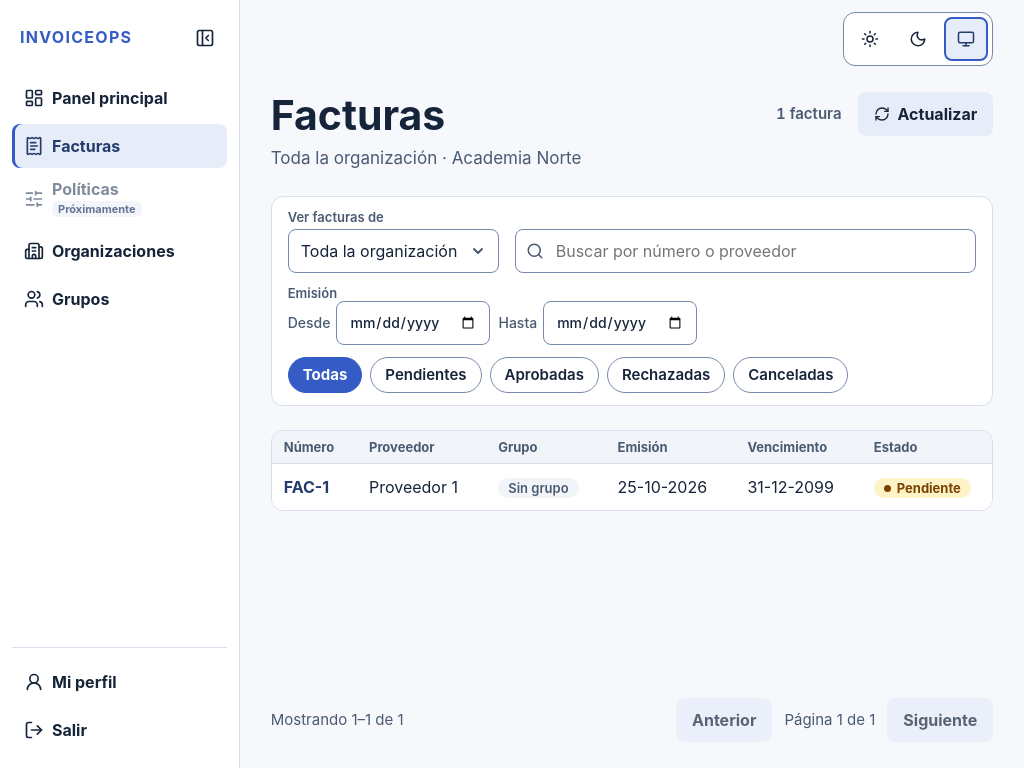
Test: APP12 S3 invoice presentation HTTP boundary › explains detail HTTP 404 as not found with the way back
Expected: the heading "Facturas" is shown, x1=271 y1=90 x2=445 y2=140
Click the link "FAC-1".
click(306, 487)  # box x1=284 y1=477 x2=329 y2=497
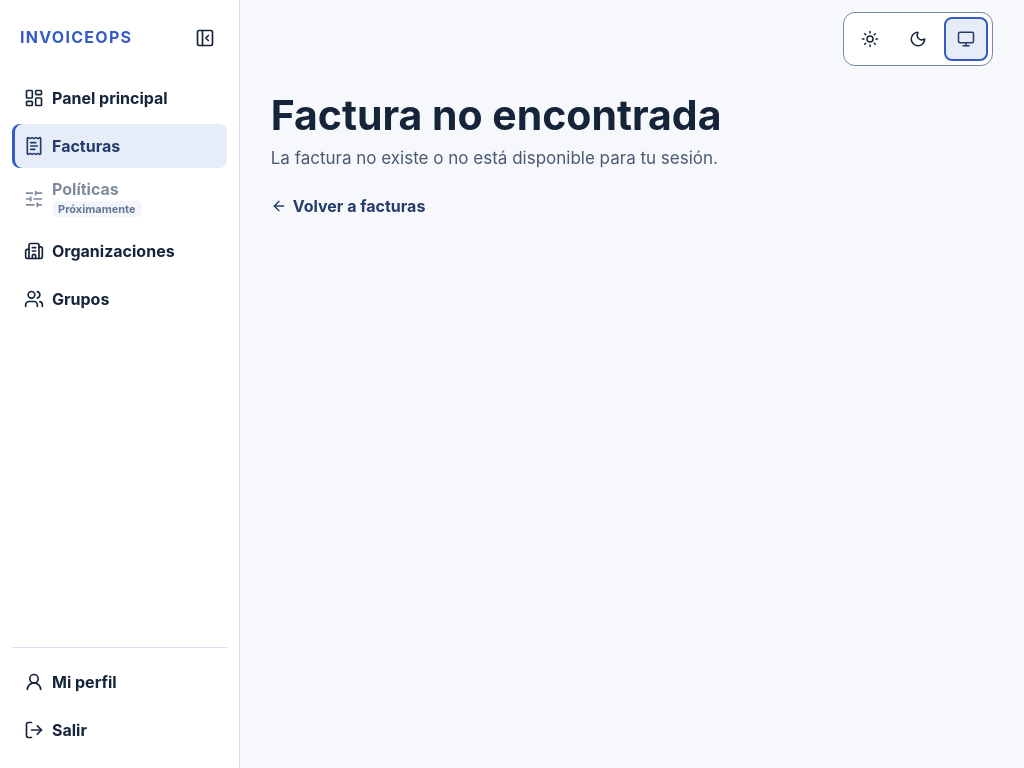
Expected: the heading "Factura no encontrada" is shown, x1=271 y1=90 x2=721 y2=140
Click the link "Volver a facturas".
click(348, 206)  # box x1=271 y1=196 x2=425 y2=216
(page scrolled)
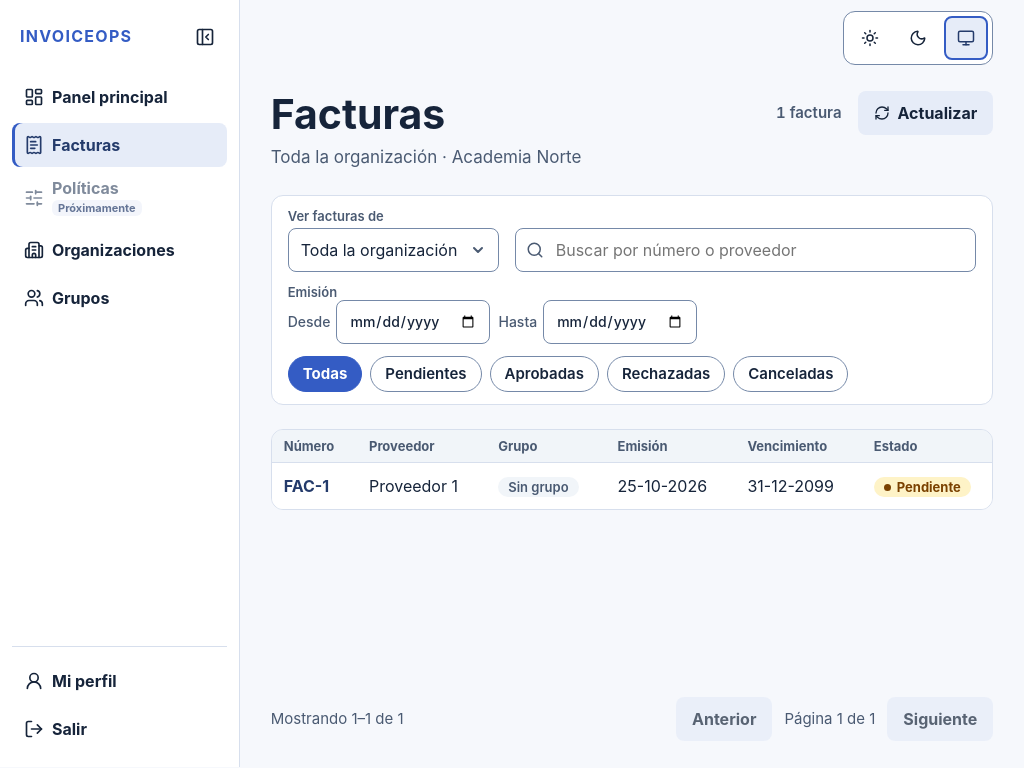
Expected: the table named "Facturas" is shown, x1=272 y1=430 x2=993 y2=509
